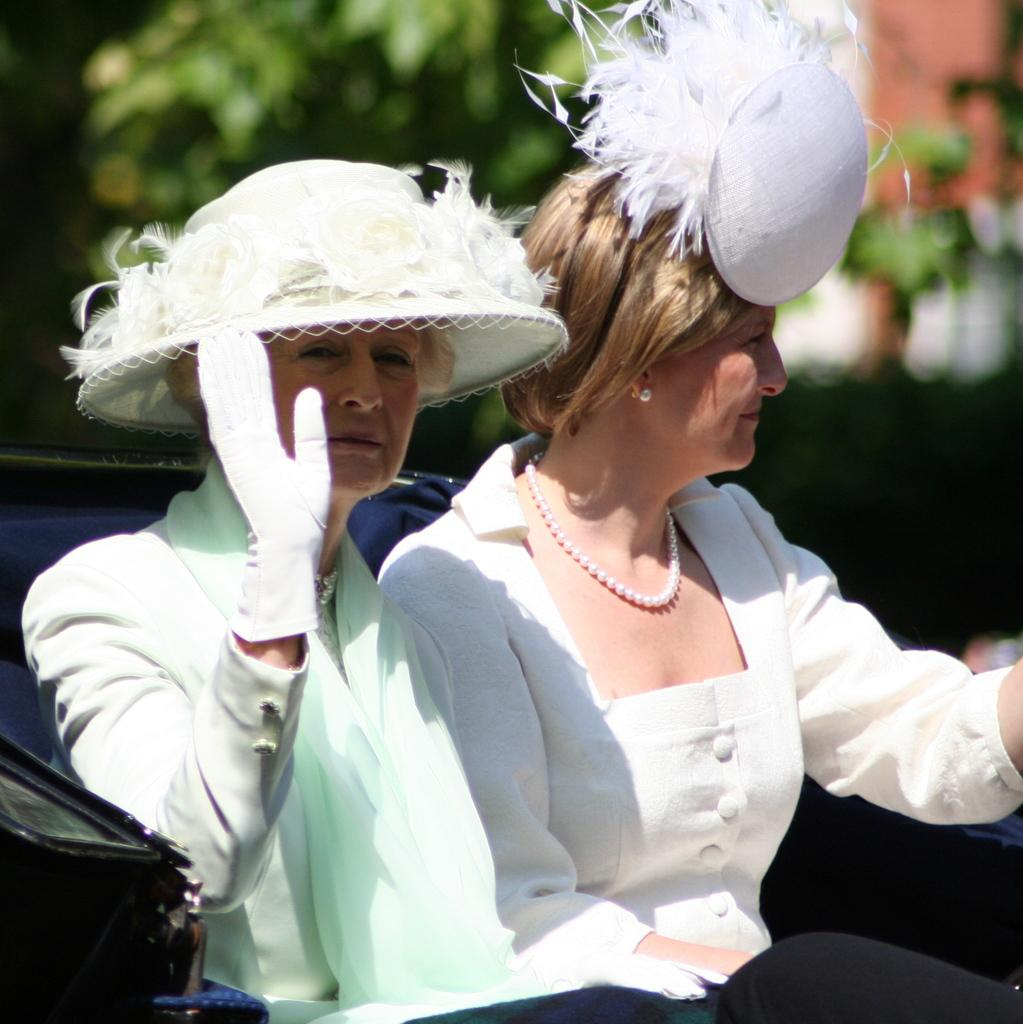Hat: (58, 159, 568, 435)
